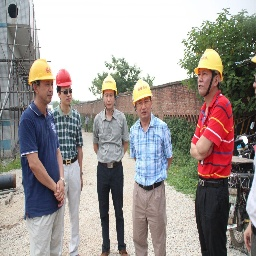helmet: (27, 54, 56, 95), (193, 47, 224, 84), (54, 69, 74, 102), (132, 79, 154, 108), (99, 74, 119, 102)
no-vest: (18, 101, 64, 210), (191, 96, 236, 182), (129, 121, 172, 191), (92, 110, 128, 167), (49, 106, 83, 165)
person: (17, 56, 67, 256), (190, 47, 236, 256), (130, 78, 173, 256), (92, 74, 130, 256), (53, 69, 88, 256)
